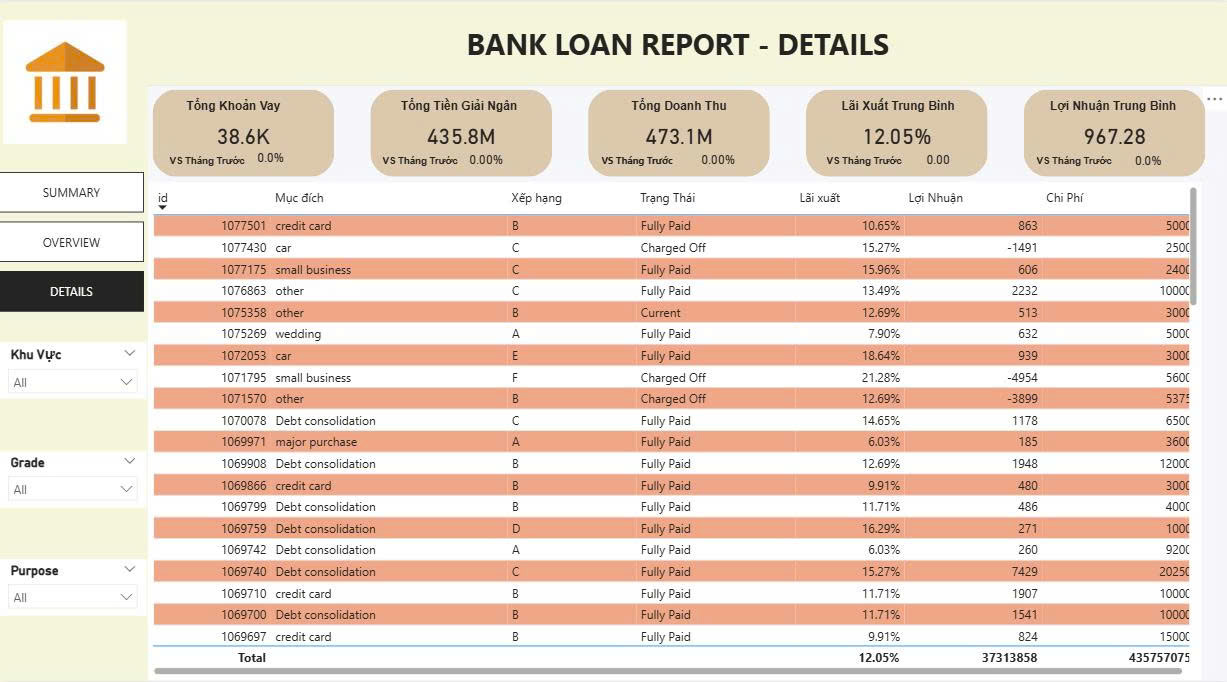

The page's visual inventory and layout, read from the dashboard file:
{"tool":"powerbi","page":{"name":"DETAILS","canvas":[1366,756],"ordinal":2},"visuals":[{"type":"textbox","box":[8.9,16.7,351.1,53.3],"z":0},{"type":"shape","box":[0,0,1366,94],"z":1000},{"type":"shape","box":[0,85,165,670],"z":2000},{"type":"cardVisual","fields":{"Data":["CountNonNull(financial_loan_cleaned_dates.id)","financial_loan_cleaned_dates.M_Total_Amount","financial_loan_cleaned_dates.M_Payment","financial_loan_cleaned_dates.M_Avg_Rate","financial_loan_cleaned_dates.M_AVG_DPI"]},"box":[165,93.8,1180,107.5],"z":3000},{"type":"textbox","box":[184.4,162.2,135.6,30],"z":4000},{"type":"textbox","box":[421.1,162.2,135.6,30],"z":5000},{"type":"textbox","box":[664.4,162.2,135.6,30],"z":6000},{"type":"textbox","box":[412.5,101.9,198.1,26.9],"z":7000},{"type":"textbox","box":[656.4,101.8,198.2,27.3],"z":8000},{"type":"textbox","box":[900,101.8,198.2,27.3],"z":9000},{"type":"textbox","box":[1139.1,101.8,198.2,27.3],"z":10000},{"type":"card","fields":{"Values":["financial_loan_cleaned_dates.M_% total Loan_change"]},"box":[269.6,159.2,63.7,32.8],"z":11000},{"type":"card","fields":{"Values":["financial_loan_cleaned_dates.M_%chang_Total_amout"]},"box":[511.4,162.2,60.7,29.8],"z":12000},{"type":"card","fields":{"Values":["financial_loan_cleaned_dates.M_%Change Profit"]},"box":[769.1,162.2,60.7,29.8],"z":13000},{"type":"card","fields":{"Values":["financial_loan_cleaned_dates.M_%Change Rate"]},"box":[1012.8,162.2,60.7,29.8],"z":14000},{"type":"textbox","box":[914.3,162.2,98.5,29.8],"z":15000},{"type":"textbox","box":[1148.1,162.2,98.5,29.8],"z":16000},{"type":"card","fields":{"Values":["financial_loan_cleaned_dates.M_%Change Rate"]},"box":[1246.6,164.2,60.7,25.9],"z":17000},{"type":"slicer","fields":{"Values":["financial_loan_cleaned_dates.address_state"]},"box":[0,378.6,164.3,62.9],"z":18000},{"type":"slicer","fields":{"Values":["financial_loan_cleaned_dates.grade"]},"box":[0,500,164.3,62.9],"z":19000},{"type":"slicer","fields":{"Values":["financial_loan_cleaned_dates.purpose"]},"box":[0,620,164.3,62.9],"z":20000},{"type":"textbox","box":[161.2,102.5,198.8,31.2],"z":21000},{"type":"tableEx","fields":{"Values":["financial_loan_cleaned_dates.id","financial_loan_cleaned_dates.purpose","financial_loan_cleaned_dates.grade","financial_loan_cleaned_dates.loan_status","financial_loan_cleaned_dates.M_Avg_Rate","financial_loan_cleaned_dates.M_Profit","financial_loan_cleaned_dates.M_Total_Amount"]},"box":[165.6,201.1,1171.1,553.3],"z":22000},{"type":"textbox","box":[421.2,20,666.2,55],"z":23000},{"type":"image","box":[0,15.6,146.7,148.9],"z":24000},{"type":"pageNavigator","box":[0,190,161.4,157.1],"z":26000}]}

Visuals, with their boxes in screenshot pixels (x1, y1, x2, y2), scaled from the page's 1366x756 canvas onto the 1227x682 screenshot:
textbox: 8, 15, 323, 63
shape: 0, 0, 1226, 85
shape: 0, 77, 148, 681
cardVisual - CountNonNull(financial_loan_cleaned_dates.id) x financial_loan_cleaned_dates.M_Total_Amount: 148, 85, 1208, 182
textbox: 166, 146, 287, 173
textbox: 378, 146, 500, 173
textbox: 597, 146, 719, 173
textbox: 371, 92, 548, 116
textbox: 590, 92, 768, 116
textbox: 808, 92, 986, 116
textbox: 1023, 92, 1201, 116
card - financial_loan_cleaned_dates.M_% total Loan_change: 242, 144, 299, 173
card - financial_loan_cleaned_dates.M_%chang_Total_amout: 459, 146, 514, 173
card - financial_loan_cleaned_dates.M_%Change Profit: 691, 146, 745, 173
card - financial_loan_cleaned_dates.M_%Change Rate: 910, 146, 964, 173
textbox: 821, 146, 910, 173
textbox: 1031, 146, 1120, 173
card - financial_loan_cleaned_dates.M_%Change Rate: 1120, 148, 1174, 171
slicer - financial_loan_cleaned_dates.address_state: 0, 342, 148, 398
slicer - financial_loan_cleaned_dates.grade: 0, 451, 148, 508
slicer - financial_loan_cleaned_dates.purpose: 0, 559, 148, 616
textbox: 145, 92, 323, 121
tableEx - financial_loan_cleaned_dates.id x financial_loan_cleaned_dates.purpose: 149, 181, 1201, 681
textbox: 378, 18, 977, 68
image: 0, 14, 132, 148
pageNavigator: 0, 171, 145, 313
